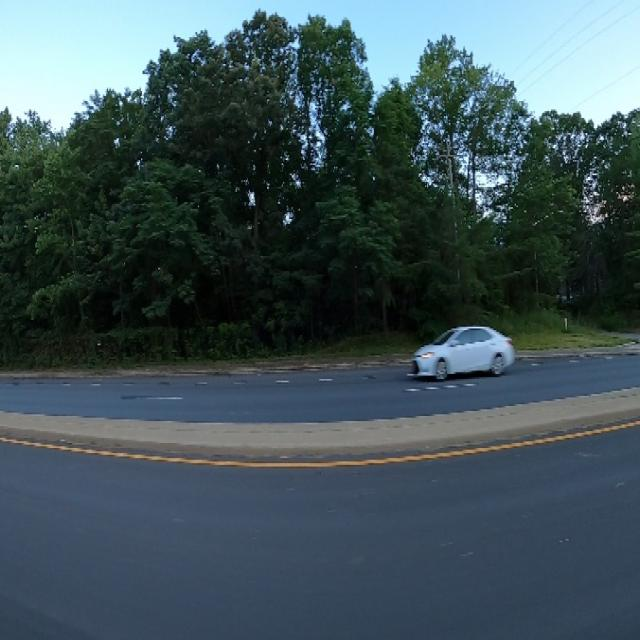cars: (407, 314, 520, 394)
